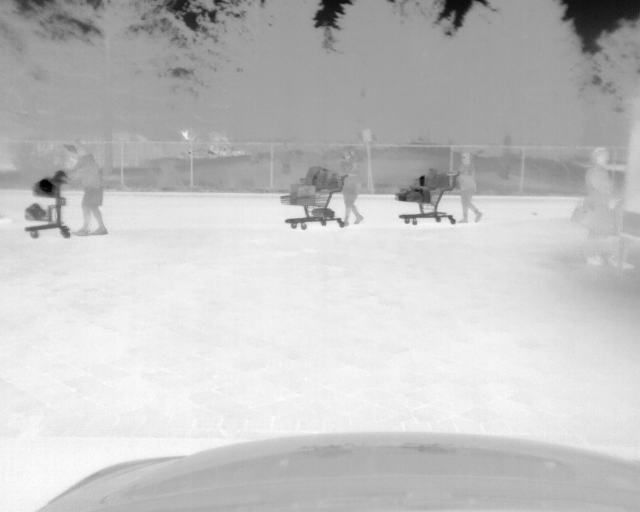people: (573, 145, 621, 268), (64, 141, 109, 237), (335, 147, 364, 229), (454, 149, 482, 225)
